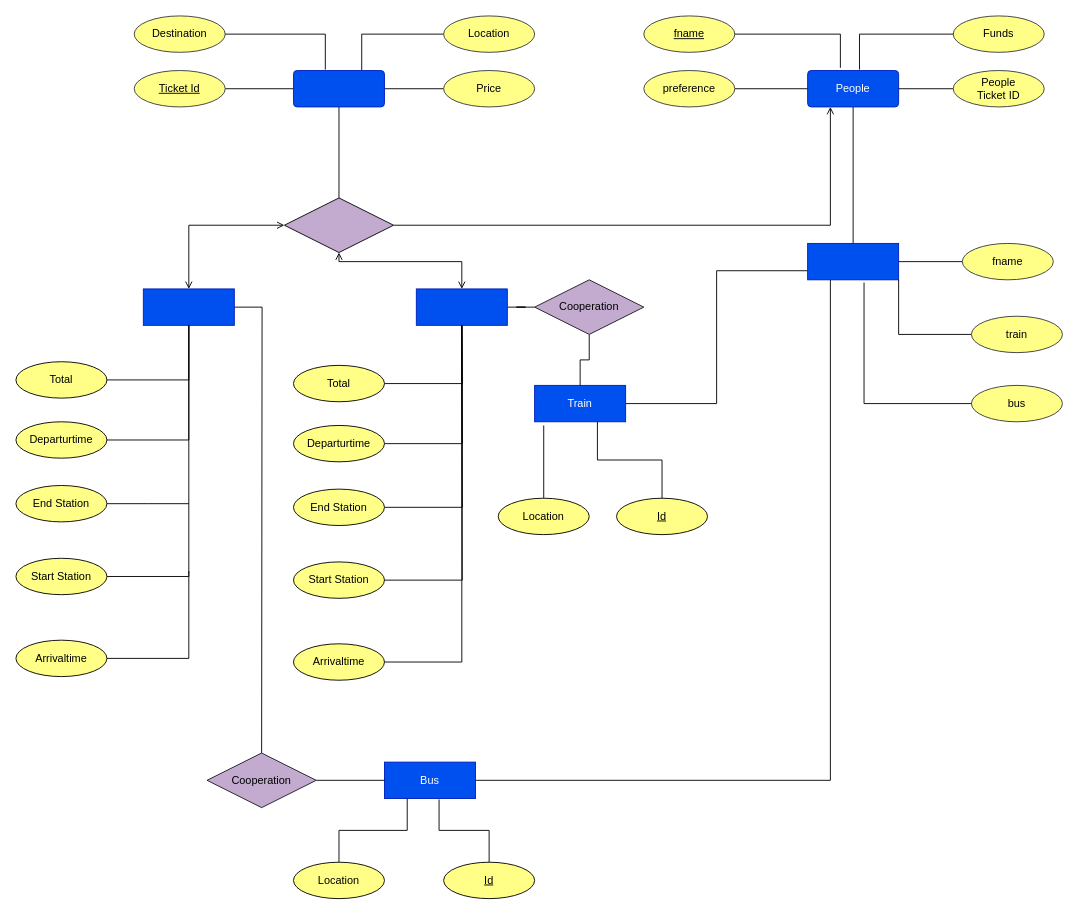
This 1078x915 diagram has some shape labels left out. The shapes that lost their labels are listed below. From the top down, each one's box as (x1, y1, x2, y2) in pixels, then its label:
(293, 70, 384, 107): Ticket
(283, 197, 394, 253): Buy
(807, 243, 899, 280): Pref erence
(142, 288, 234, 325): Bus Schedule
(415, 288, 507, 325): Train Schedule
